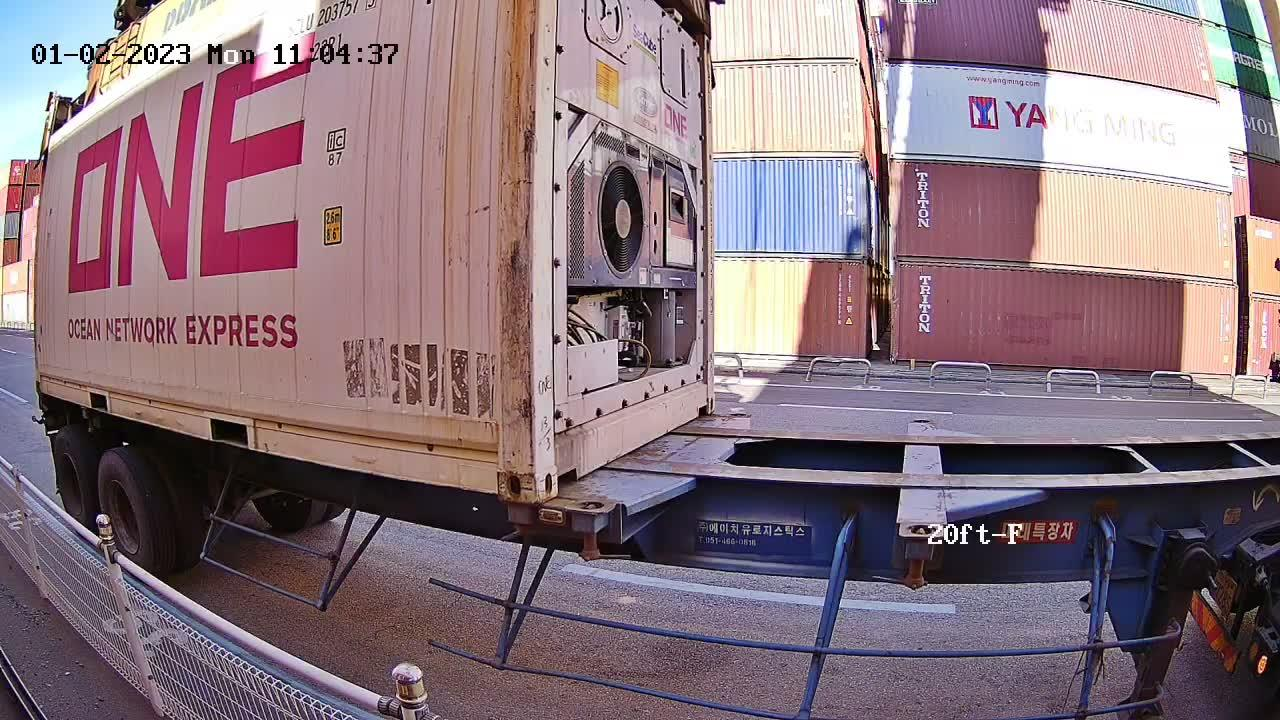Chassis: (568, 412, 751, 514)
Cone: (572, 498, 617, 567), (497, 498, 531, 543)
Hole_L: (534, 423, 588, 504)
Hole_R: (469, 426, 532, 501), (694, 373, 716, 419)
Tire: (97, 450, 157, 579), (53, 433, 96, 532)
